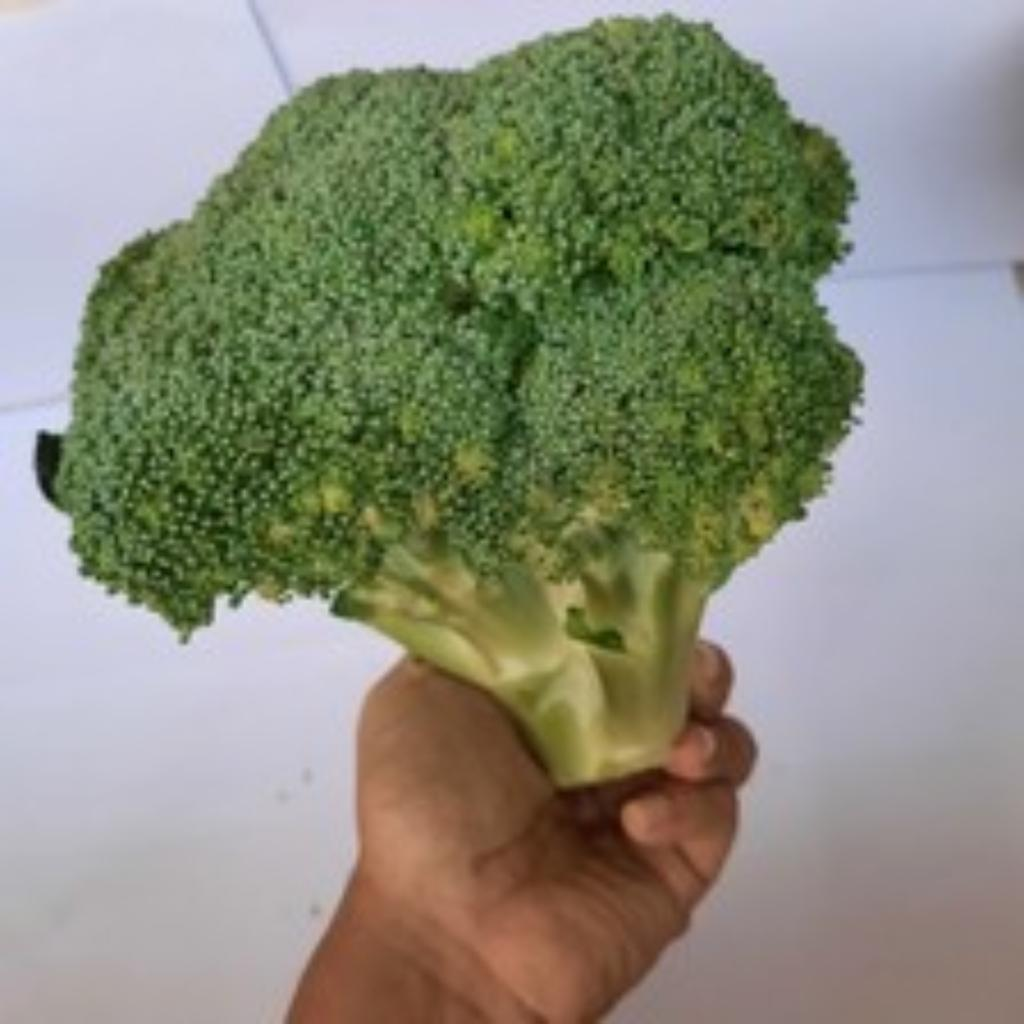Broccoli: (62, 16, 860, 629), (62, 18, 860, 629)
